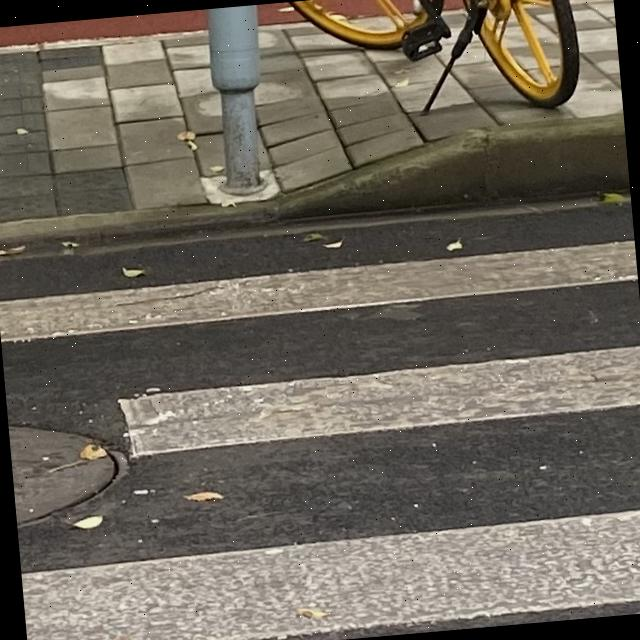curb: (0, 113, 629, 258)
